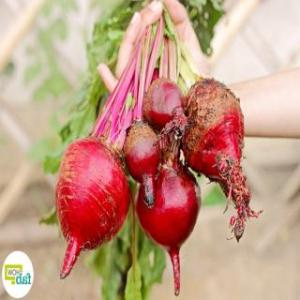beet: (54, 138, 130, 278), (135, 163, 201, 297), (184, 79, 244, 183), (124, 125, 160, 186), (143, 79, 181, 125)
